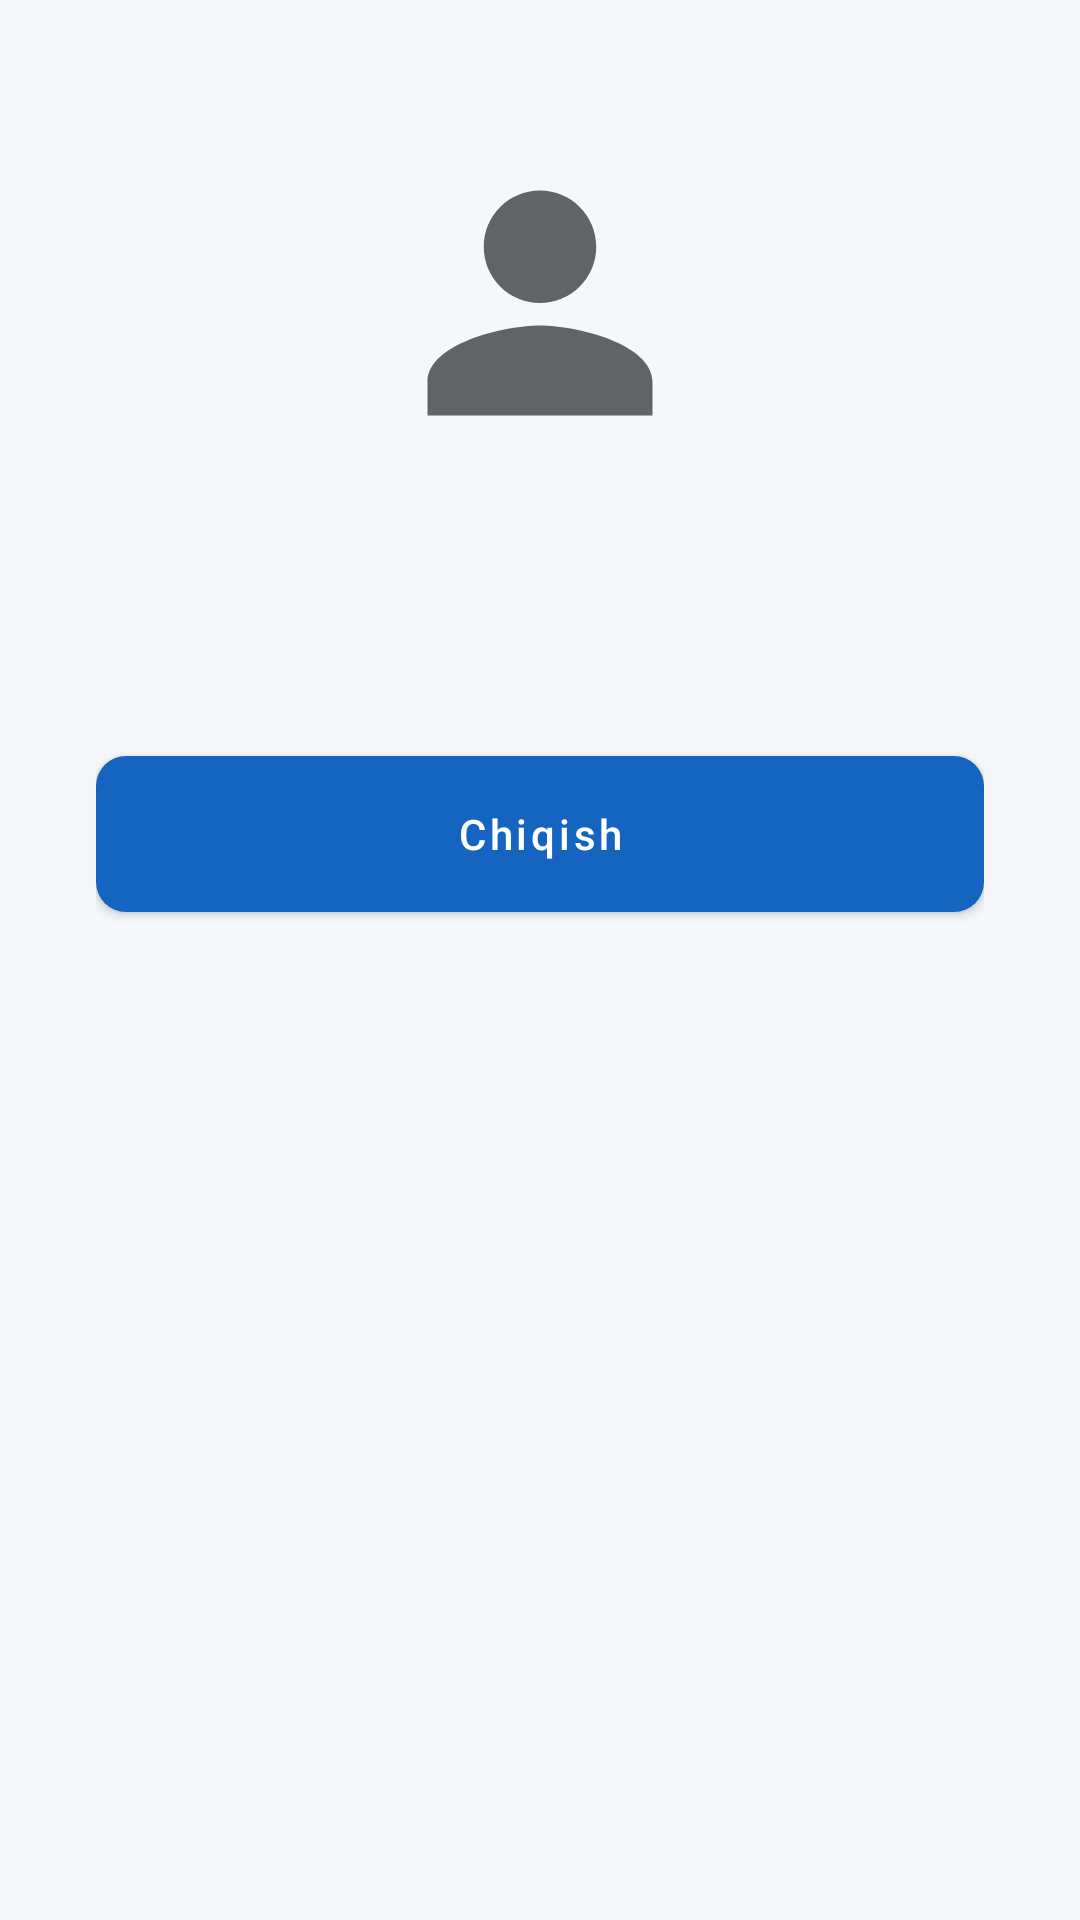

Icons on this 1080px×1920px Android screen, each with its box as {"left": x1, "top": y1, "right": x2, "bottom": y2}:
profile: {"left": 427, "top": 190, "right": 653, "bottom": 416}
